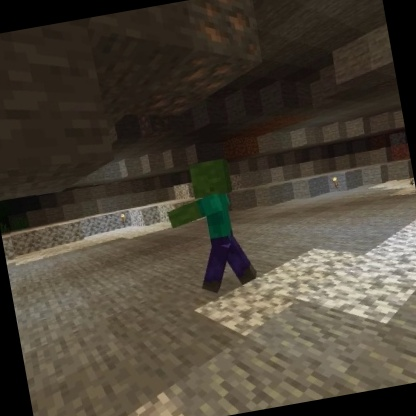zombie: (156, 152, 263, 303)
